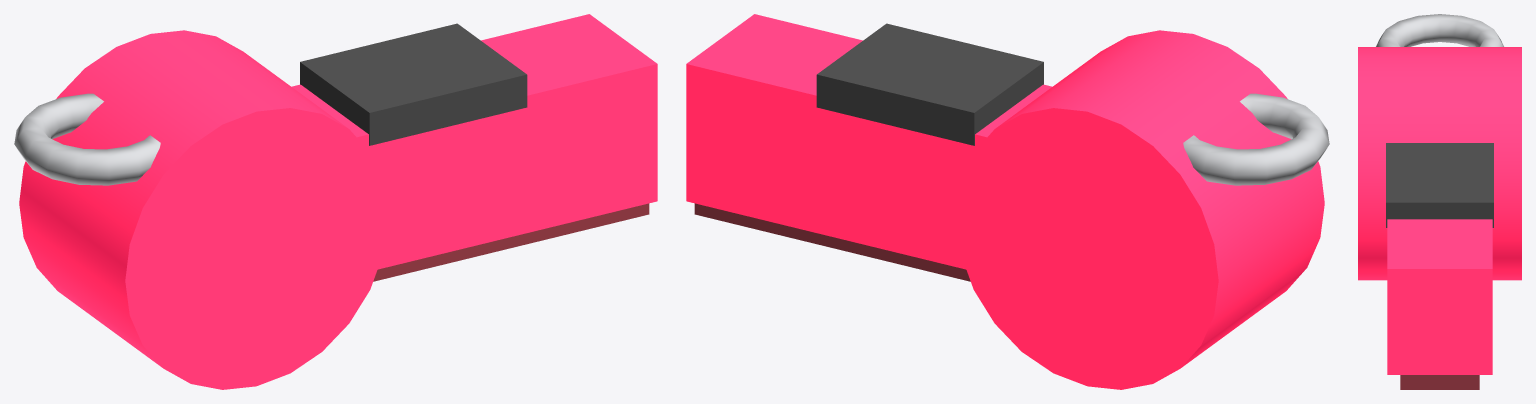
Rendered from peluit.glb.
3 renders of one model, left to right at view 1: azimuth 30°, elevation 25°; view 2: azimuth 150°, elevation 25°; view 3: azimuth 270°, elevation 25°, orthographic. The views are drawn at different scales.
Parts seen in each view (by area): view 1: peluit_Mesh; view 2: peluit_Mesh; view 3: peluit_Mesh.
Boxes of the visible parts, left/top/right/bottom form: peluit_Mesh: left=14, top=14, right=657, bottom=389; peluit_Mesh: left=686, top=14, right=1329, bottom=389; peluit_Mesh: left=1358, top=14, right=1521, bottom=389.
Bounding box in the file's own units: 0.228 × 0.1 × 0.07.
